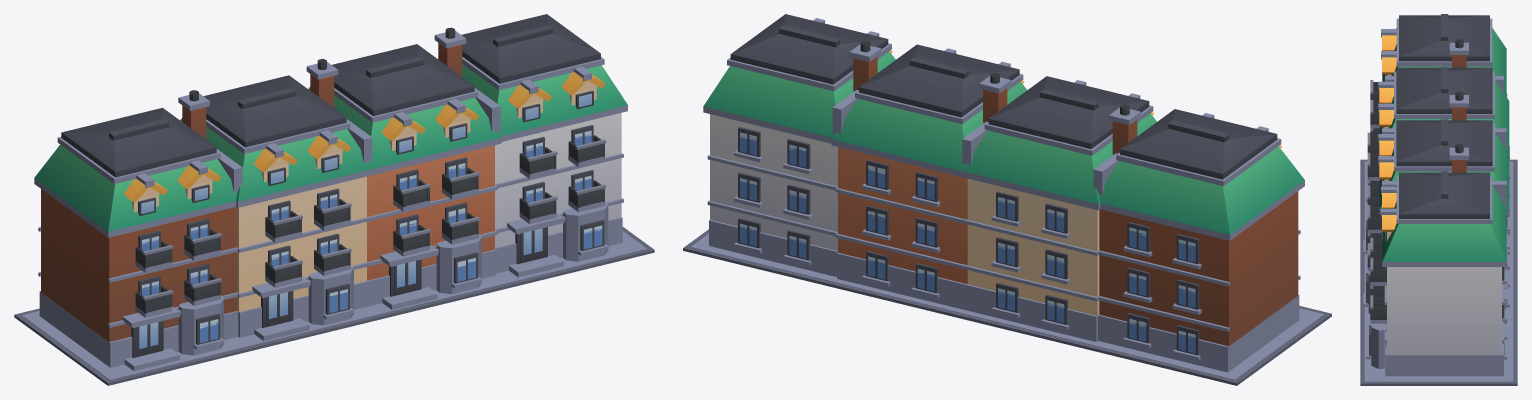
The model's file is res_english_townhouses_3x1.glb.
3 views of the same model, side by side, from view 1: azimuth 30°, elevation 25°; view 2: azimuth 150°, elevation 25°; view 3: azimuth 270°, elevation 25° (orthographic). The views are drawn at different scales.
Parts seen in each view (by area): view 1: res_english_townhouses_3x1; view 2: res_english_townhouses_3x1; view 3: res_english_townhouses_3x1.
Boxes of the visible parts, x1,y1,x2,y2 form: res_english_townhouses_3x1: (14,14,654,385); res_english_townhouses_3x1: (683,14,1331,385); res_english_townhouses_3x1: (1360,14,1517,385).
Size of the model in its own units: 5.72 by 2.15 by 1.7.
1 material, 1 textured.
